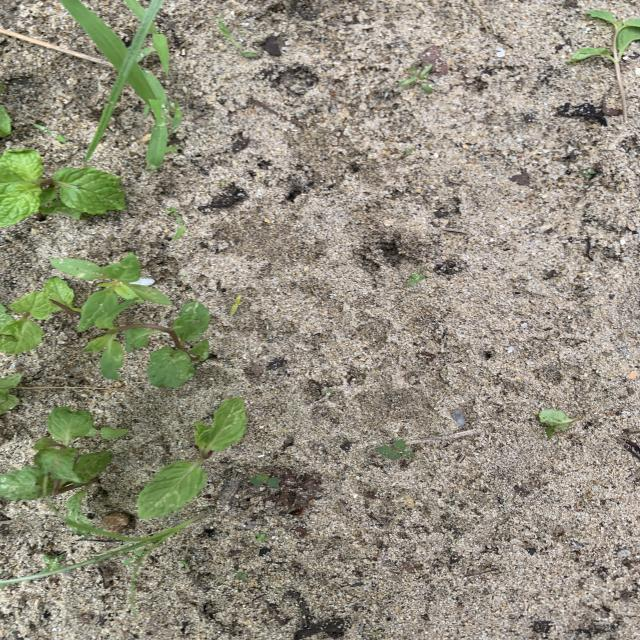crop: (0, 407, 127, 511), (138, 396, 245, 518), (86, 301, 210, 387), (0, 148, 125, 221), (1, 277, 81, 353), (41, 165, 125, 218), (568, 10, 639, 64), (539, 409, 581, 438), (1, 374, 22, 412)
weed: (0, 490, 204, 610), (68, 0, 171, 168), (51, 253, 171, 333), (218, 16, 259, 56), (399, 65, 431, 92), (377, 440, 415, 459), (250, 473, 279, 488), (407, 266, 425, 286), (42, 555, 61, 571), (166, 207, 180, 222), (231, 295, 241, 315), (580, 169, 595, 179), (174, 227, 186, 239), (256, 533, 266, 541)
